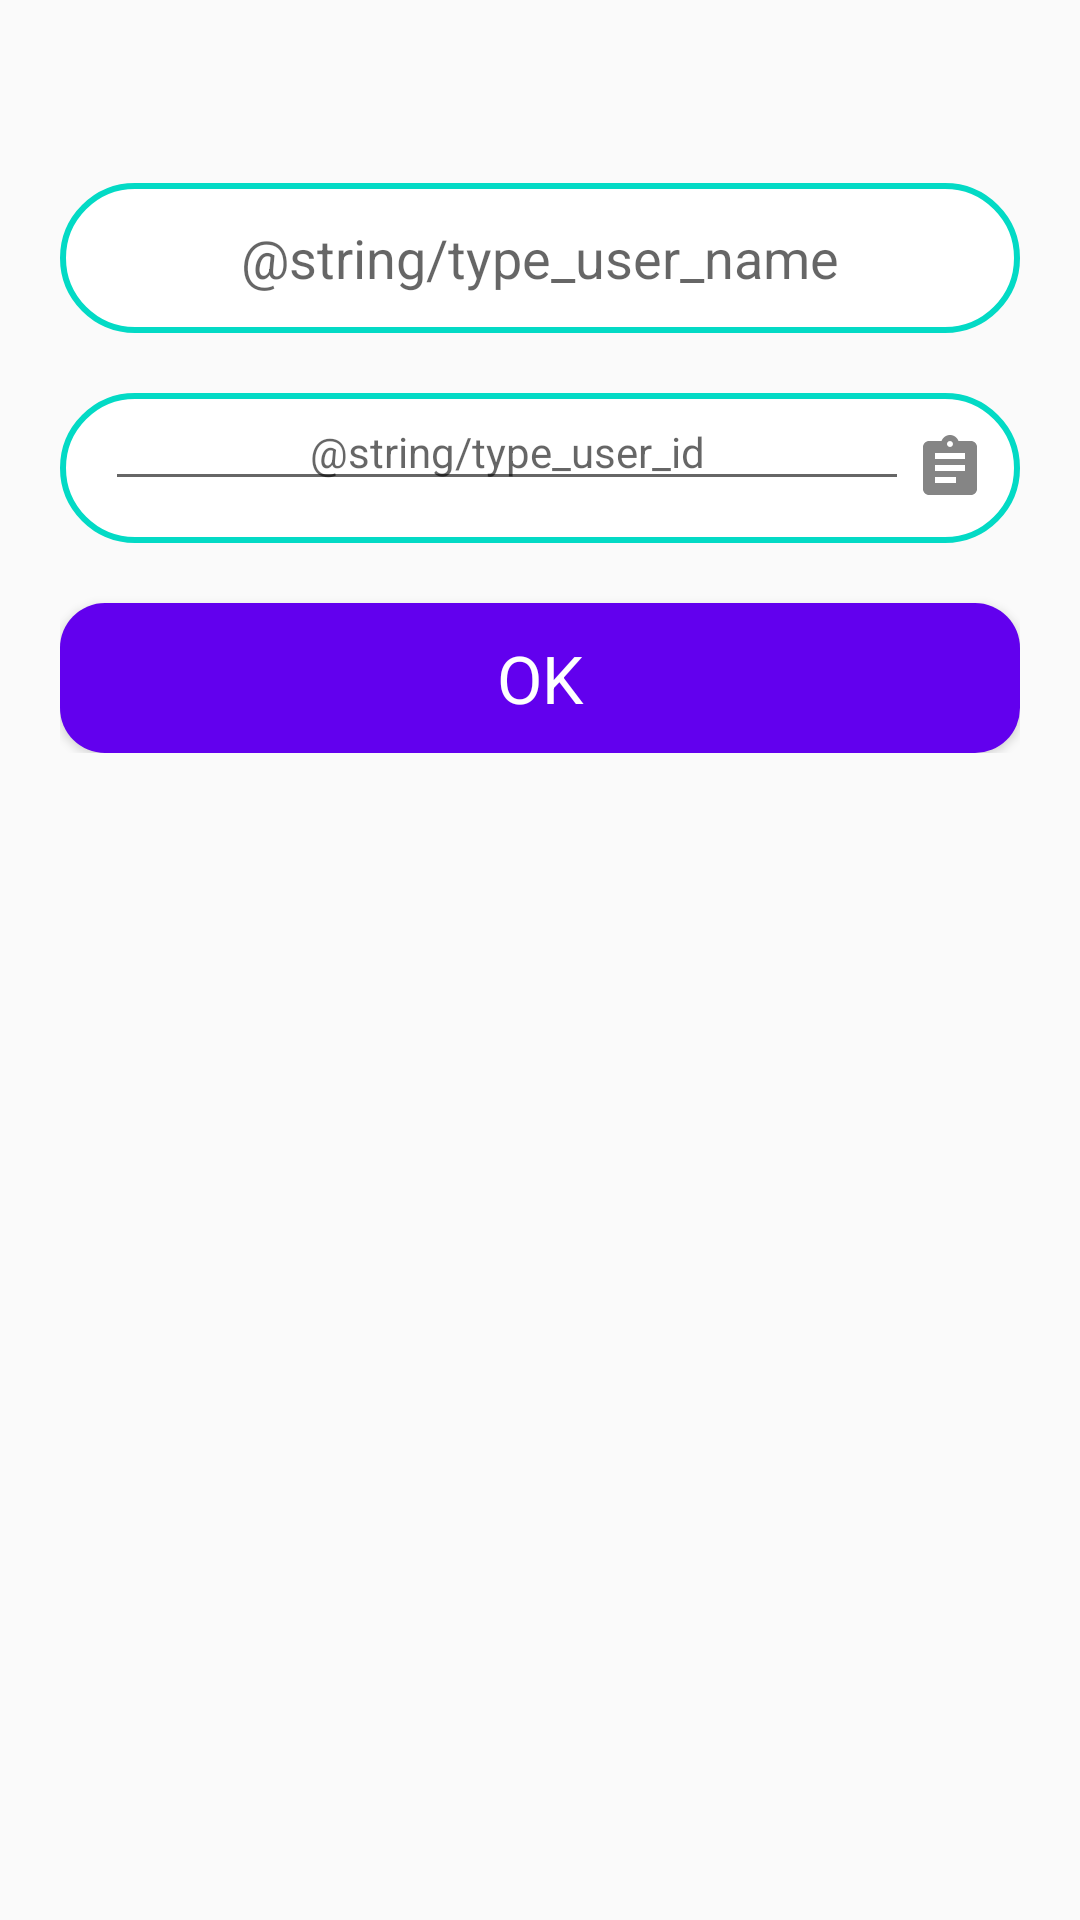

Named icons in this screenshot (1080*1920) and their centers, (x=x, y=y):
Paste Icon: (x=950, y=465)
